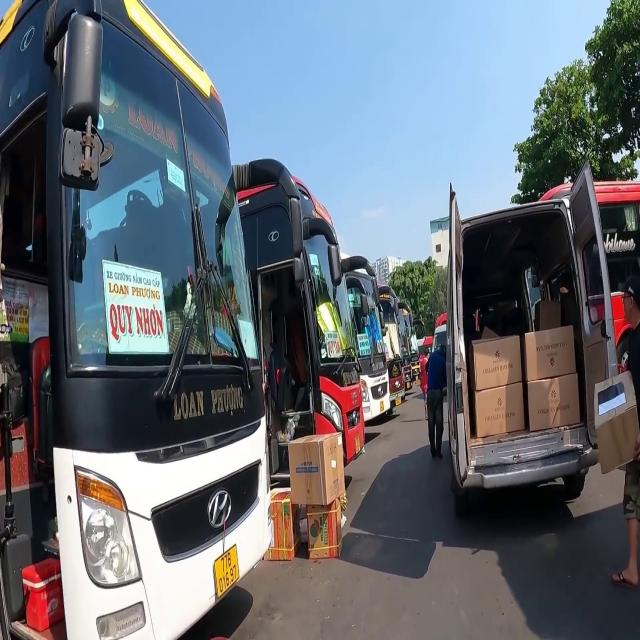bien_vang: (211, 542, 240, 598)
